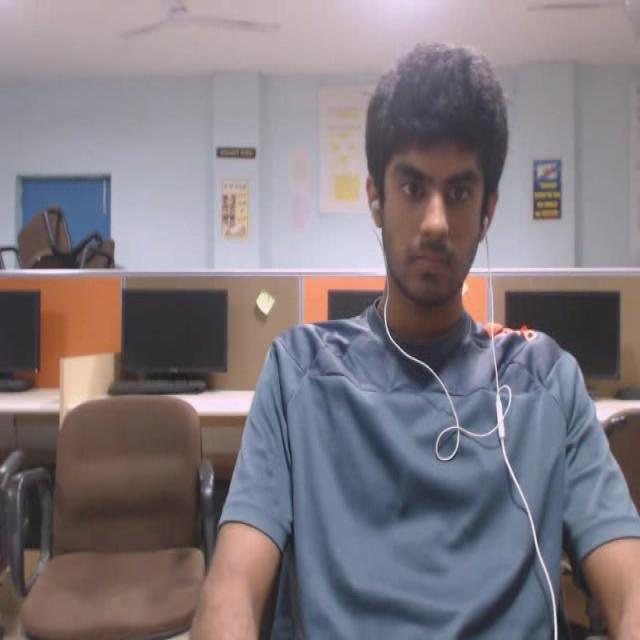Engaged: (342, 31, 526, 335)
